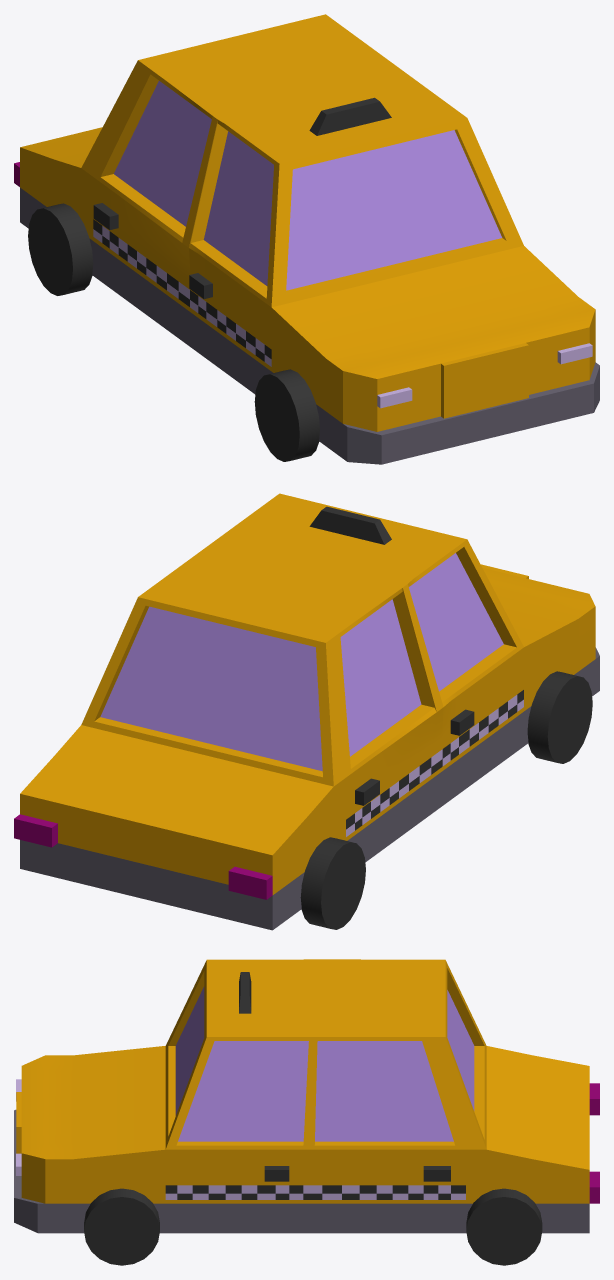
File: Taxi_Car.fbx
The picture shows the model from 3 angles, top to bottom: view 1: azimuth 30°, elevation 25°; view 2: azimuth 150°, elevation 25°; view 3: azimuth 270°, elevation 25°; orthographic projection. The views are drawn at different scales.
Visible parts, largest first — view 1: Taxi_Car; view 2: Taxi_Car; view 3: Taxi_Car.
Boxes of the visible parts, left/top/right/bottom form: Taxi_Car: left=14, top=14, right=599, bottom=464; Taxi_Car: left=14, top=493, right=599, bottom=930; Taxi_Car: left=14, top=959, right=599, bottom=1265.
Size of the model in its own units: 2.41 by 2.07 by 4.95.
